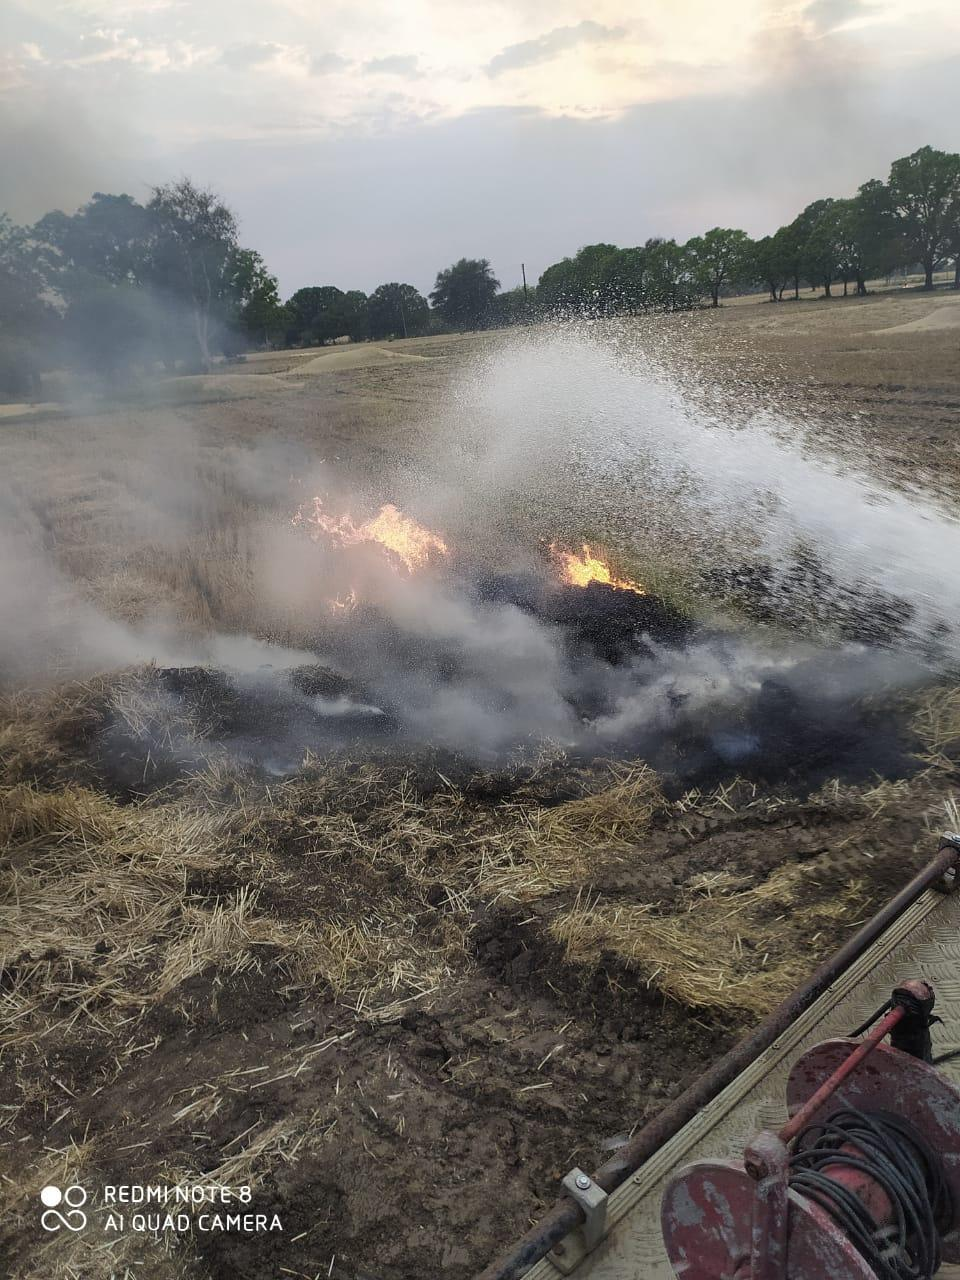fire: (289, 493, 454, 575), (544, 536, 650, 598)
smoke: (0, 583, 798, 776), (3, 85, 240, 600)
